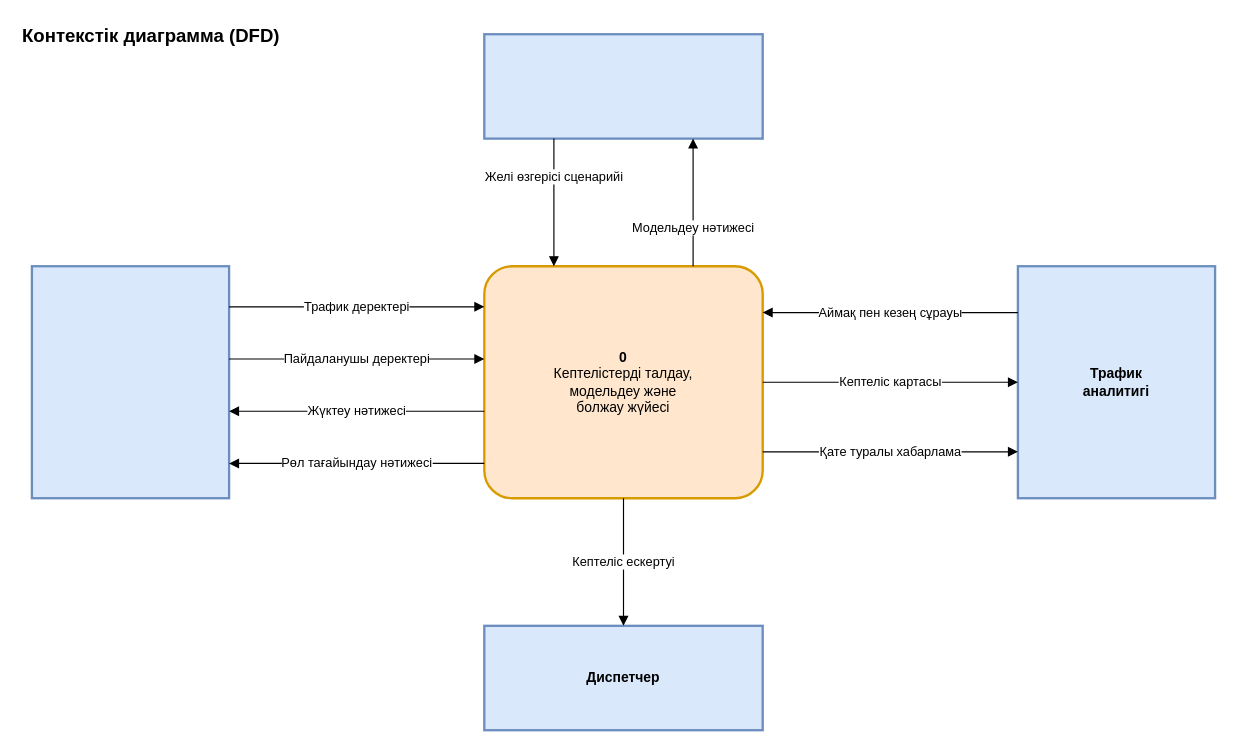
The diagram is 1235 pixels wide and 751 high, and some of its shapes have lost their labels. Each missing label, with the centre of its shape:
Қала жоспарлаушысы: (623,85)
Әкімші: (130,381)
